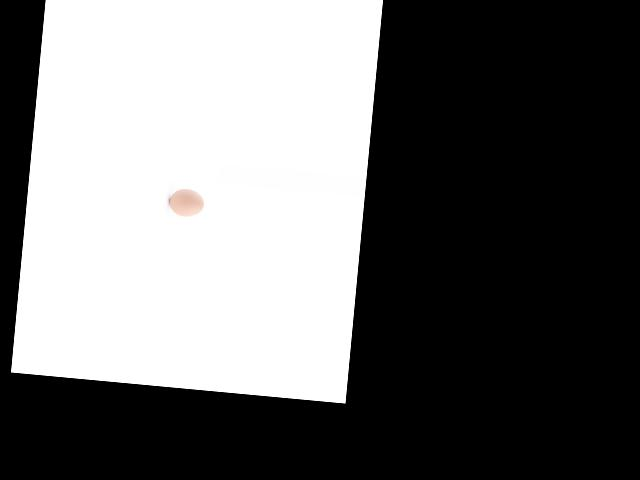egg: (168, 186, 205, 217)
